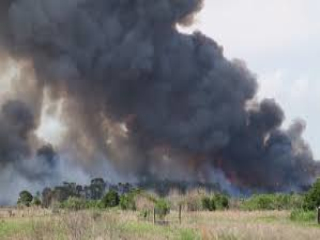smoke: (113, 25, 318, 193), (1, 70, 72, 195)
